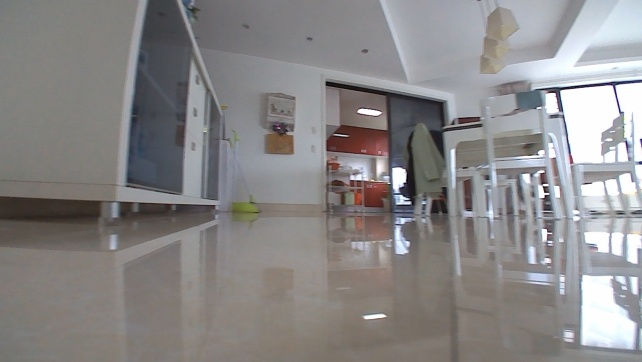cupboard: (332, 177, 389, 214)
dining_table: (407, 83, 641, 222)
